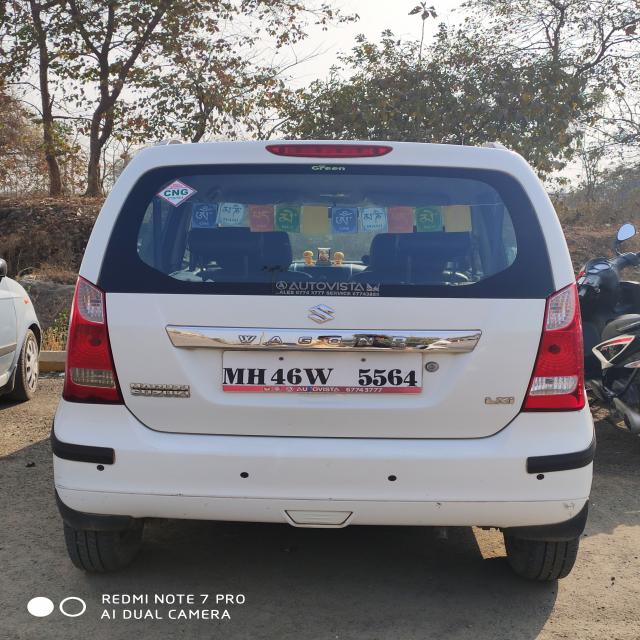Number-Plate: (218, 353, 423, 392)
